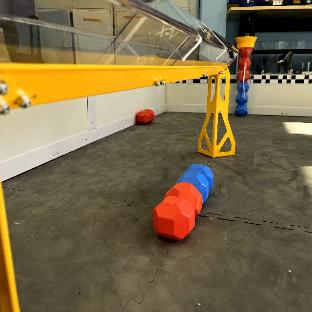Goal: (0, 0, 237, 157)
V5_BLUE: (179, 164, 213, 201)
V5_RED: (154, 183, 201, 239), (236, 35, 255, 115), (136, 109, 154, 124)
